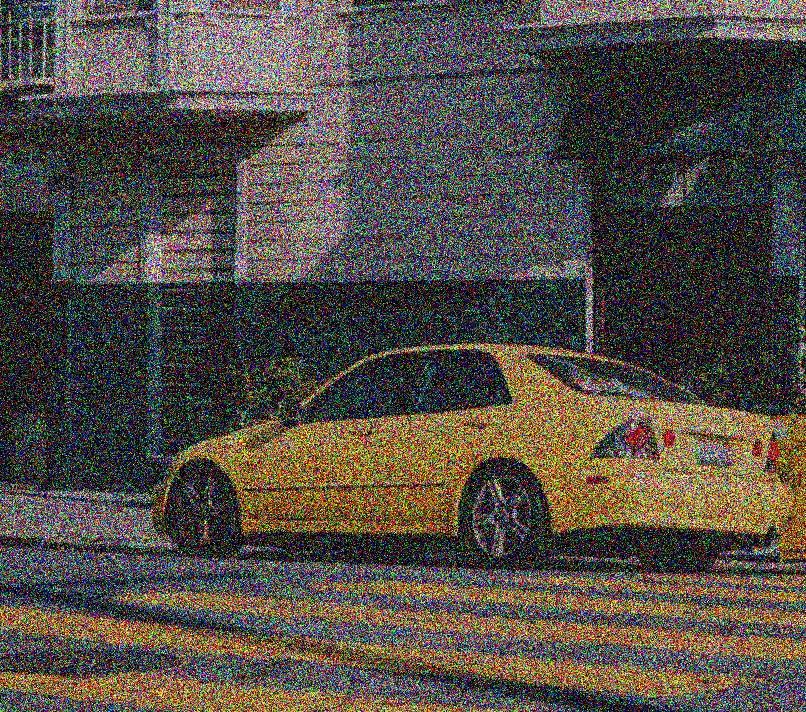car: (134, 313, 795, 588)
